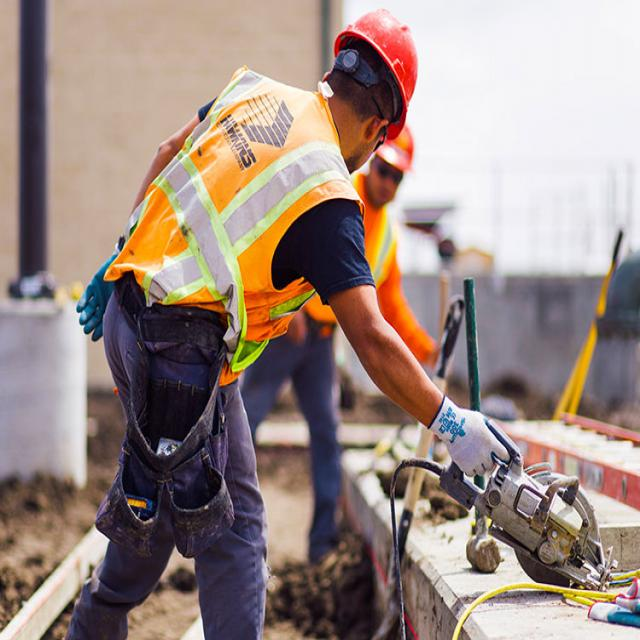Reflective-Jacket: (105, 84, 355, 378)
Safety-Helmet: (335, 6, 423, 143)
